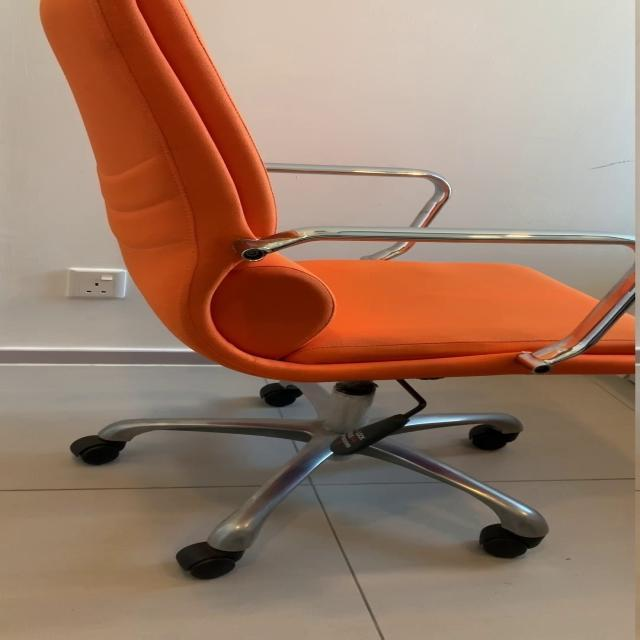chair: (37, 1, 640, 586)
